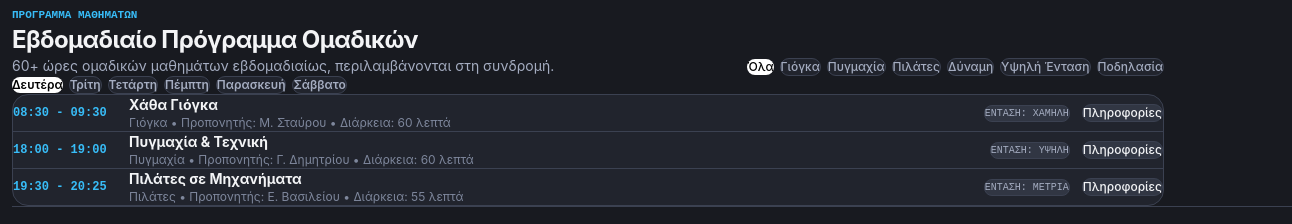
Timetable (the public class schedule) › switches to another day and shows that day's classes
Expected: the text "Χάθα Γιόγκα" is shown, x1=129 y1=96 x2=218 y2=113
Click the button "Τρίτη" at (85, 85), box x1=69 y1=76 x2=102 y2=94
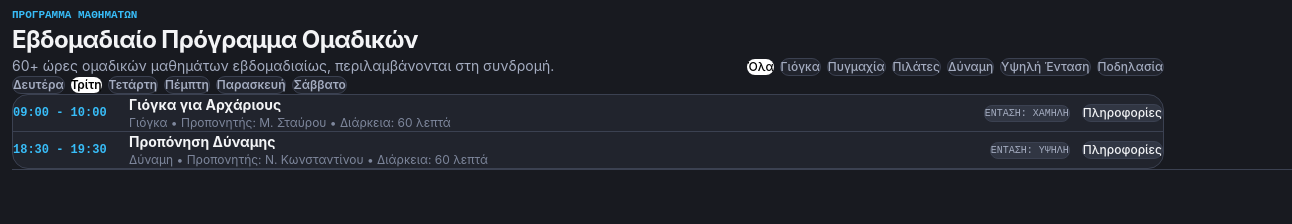
Expected: the text "Γιόγκα για Αρχάριους" is shown, x1=129 y1=96 x2=281 y2=113
Expected: the text "Προπόνηση Δύναμης" is shown, x1=129 y1=133 x2=276 y2=150
Expected: the text "Χάθα Γιόγκα" is gone
